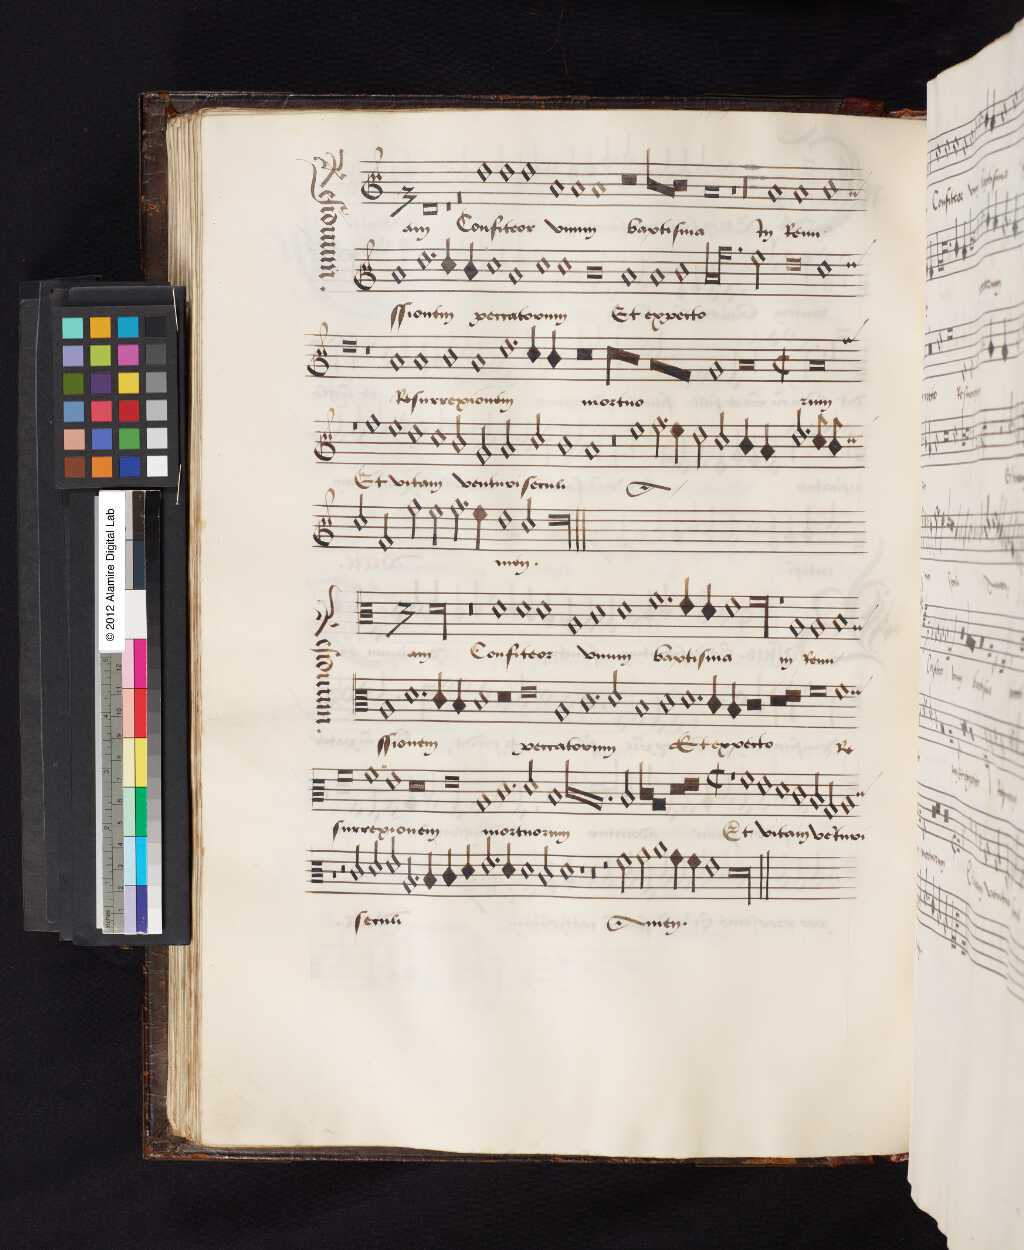Imincut: (701, 754, 732, 805)
breve_4: (331, 758, 357, 794)
breve_5: (438, 766, 464, 798)
breve_6: (404, 769, 430, 801)
c clef_7: (306, 760, 331, 822)
custos_7: (847, 769, 879, 801)
l1colored semibreve_7: (636, 760, 652, 811)
l2colored breve_5: (680, 775, 703, 798)
l2colored breve_6: (667, 778, 686, 798)
l2colored semibreve_9: (652, 791, 666, 817)
minim_10: (823, 771, 838, 825)
minim_6: (520, 750, 540, 804)
minim_8: (617, 759, 635, 815), (808, 762, 824, 814)
o1semibreve_7: (558, 750, 583, 820)
o2semibreve_9: (583, 750, 608, 820)
point: (601, 786, 615, 808), (506, 777, 521, 794), (374, 759, 389, 775)
semibreve rest: (728, 748, 740, 812)
semibreve_4: (361, 756, 382, 794), (736, 761, 756, 798)
semibreve_5: (382, 761, 405, 800), (754, 764, 775, 804)
semibreve_6: (774, 770, 792, 806)
semibreve_7: (789, 775, 808, 814), (494, 770, 512, 809)
semibreve_8: (545, 776, 565, 814)
semibreve_9: (470, 782, 494, 823), (837, 784, 857, 825)
